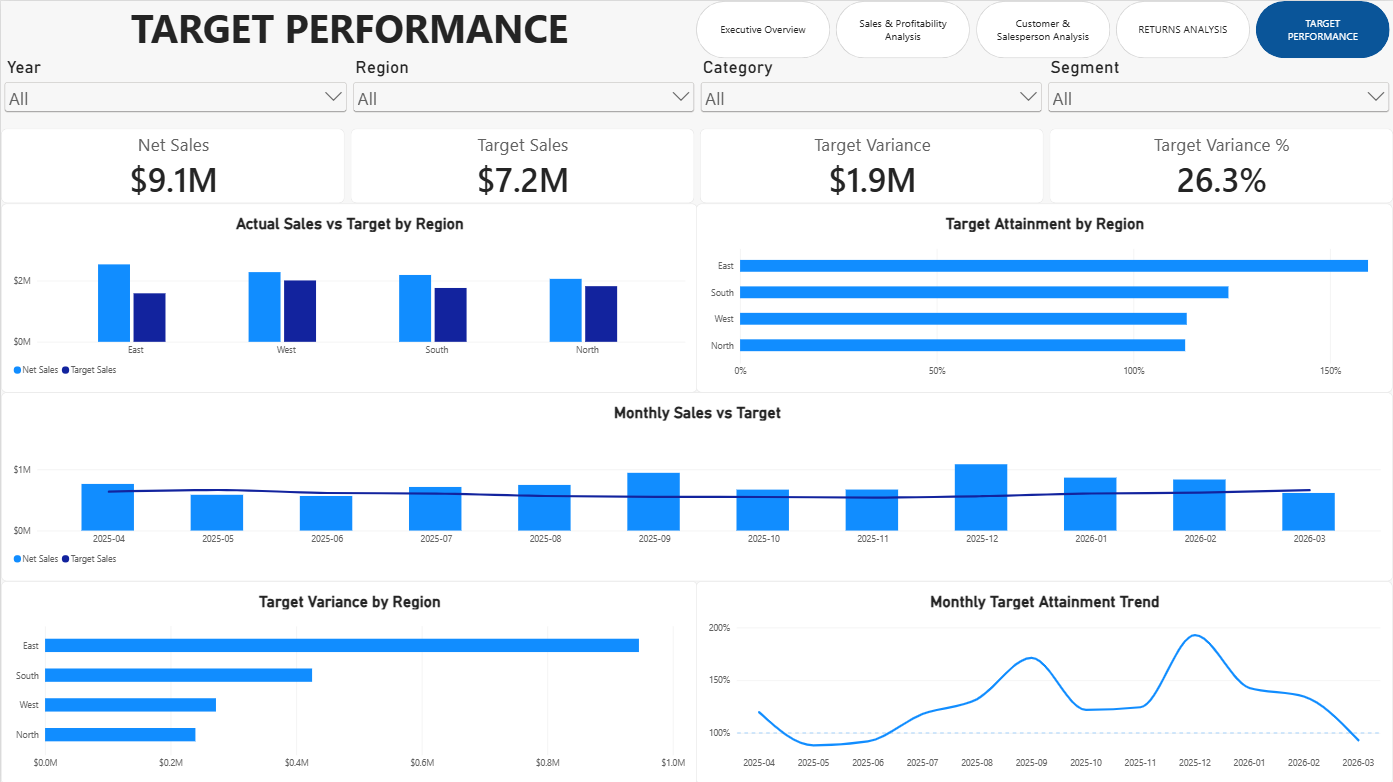

What the dashboard file says about the page in this screenshot:
{"tool":"powerbi","page":{"name":"TARGET PERFORMANCE","canvas":[1920,1080],"ordinal":4},"visuals":[{"type":"textbox","box":[0,0,961.2,77.5],"z":0},{"type":"slicer","fields":{"Values":["DimDate.Year"]},"box":[0,77.9,481.6,97.9],"z":1000},{"type":"slicer","fields":{"Values":["DimRegion.Region"]},"box":[481.6,77.9,480,97.4],"z":2000},{"type":"slicer","fields":{"Values":["DimProduct.Category"]},"box":[960.9,77.8,480,97.4],"z":3000},{"type":"slicer","fields":{"Values":["DimCustomer.Segment"]},"box":[1440,77.9,480,97.4],"z":4000},{"type":"cardVisual","fields":{"Data":["Measures_table.Net Sales","Measures_table.Target Sales","Measures_table.Target Variance","Measures_table.Target Variance %"]},"box":[0,175.5,1920.1,103.2],"z":5000},{"type":"clusteredColumnChart","title":"Actual Sales vs Target by Region","fields":{"Category":["DimRegion.Region"],"Y":["Measures_table.Net Sales","Measures_table.Target Sales"]},"box":[0,278.7,960.9,260.6],"z":6000},{"type":"barChart","title":"Target Attainment by Region","fields":{"Category":["DimRegion.Region"],"Y":["Measures_table.Target Attainment %"]},"box":[959.1,278.7,961,261],"z":7000},{"type":"lineStackedColumnComboChart","title":"Monthly Sales vs Target","fields":{"Category":["DimDate.Year Month"],"Y":["Measures_table.Net Sales"],"Y2":["Measures_table.Target Sales"]},"box":[0,539.3,1920.1,260.6],"z":8000},{"type":"barChart","title":"Target Variance by Region","fields":{"Y":["Measures_table.Target Variance"],"Category":["DimRegion.Region"]},"box":[0,799.9,960.9,280.5],"z":9000},{"type":"lineChart","title":"Monthly Target Attainment Trend","fields":{"Category":["DimDate.Year Month"],"Y":["Measures_table.Target Attainment %"]},"box":[959.1,799.9,960.9,280.5],"z":10000},{"type":"pageNavigator","box":[958.8,0,961.2,79.4],"z":11000}]}

Visuals, with their boxes in screenshot pixels (x1, y1, x2, y2), scaled from the page's 1920x1080 canvas onto the 1393x782 screenshot:
textbox: 0 0 697 56
slicer - DimDate.Year: 0 56 349 127
slicer - DimRegion.Region: 349 56 698 127
slicer - DimProduct.Category: 697 56 1045 127
slicer - DimCustomer.Segment: 1045 56 1392 127
cardVisual - Measures_table.Net Sales x Measures_table.Target Sales: 0 127 1392 202
"Actual Sales vs Target by Region" clusteredColumnChart: 0 202 697 390
"Target Attainment by Region" barChart: 696 202 1392 391
"Monthly Sales vs Target" lineStackedColumnComboChart: 0 390 1392 579
"Target Variance by Region" barChart: 0 579 697 781
"Monthly Target Attainment Trend" lineChart: 696 579 1392 781
pageNavigator: 696 0 1392 57
